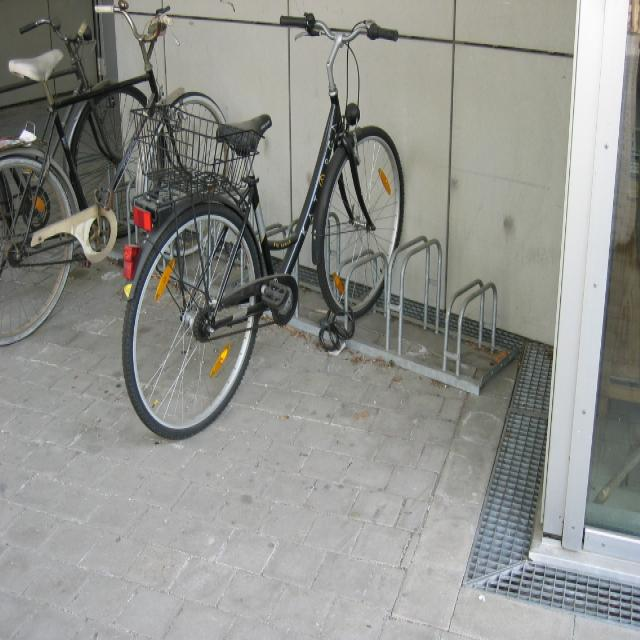bicycle: (121, 12, 404, 440), (0, 0, 227, 345)
